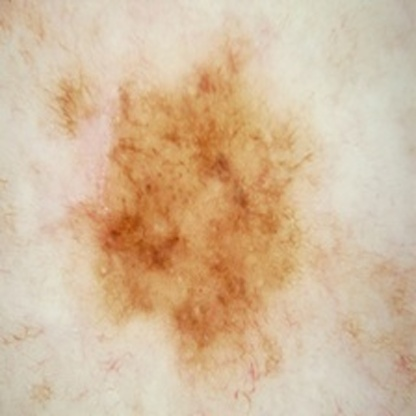malignant: (110, 77, 286, 330)
